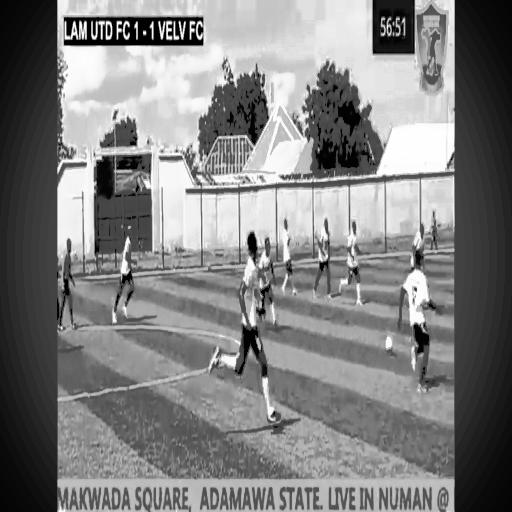ball: (386, 333, 392, 354)
referee: (60, 218, 78, 337), (427, 198, 440, 259)
team1: (398, 236, 436, 397), (111, 202, 137, 327), (317, 216, 333, 302)
team2: (225, 223, 286, 431), (276, 209, 300, 302), (343, 206, 362, 310), (260, 226, 277, 330), (402, 214, 430, 264)
